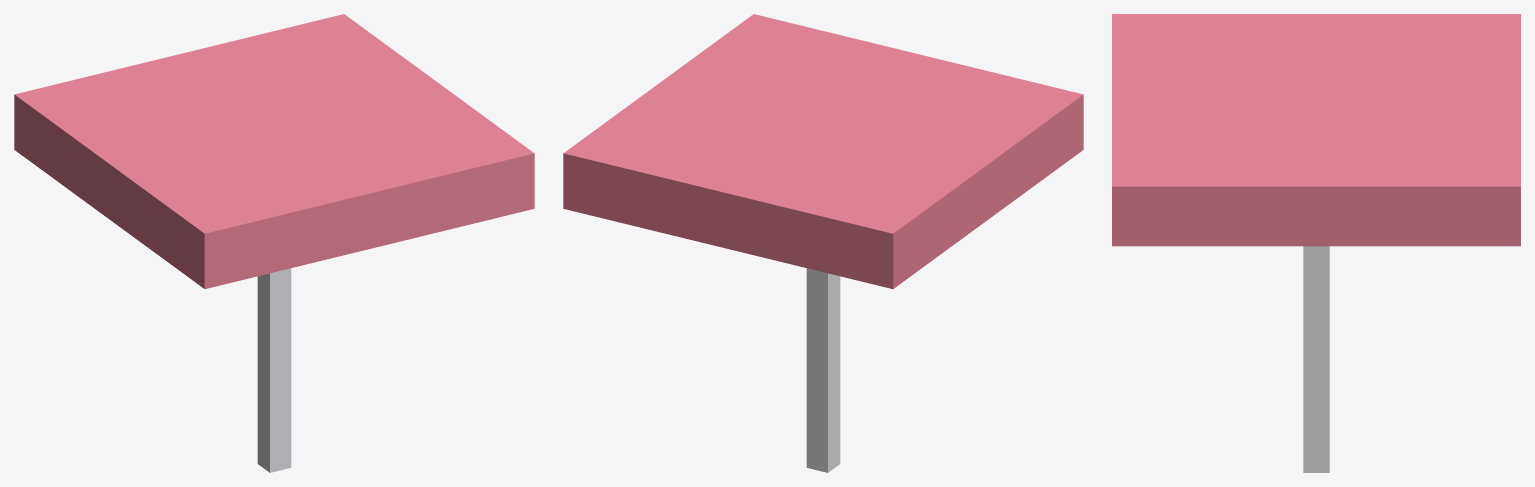
Rendered from beach_umbrella.glb.
3 renders of one model, left to right at view 1: azimuth 30°, elevation 25°; view 2: azimuth 150°, elevation 25°; view 3: azimuth 270°, elevation 25°, orthographic. The views are drawn at different scales.
Parts seen in each view (by area): view 1: umbrella_top, umbrella_pole; view 2: umbrella_top, umbrella_pole; view 3: umbrella_top, umbrella_pole.
Boxes of the visible parts, x1=… form: umbrella_top: x1=14, y1=14, x2=534, y2=288; umbrella_pole: x1=257, y1=268, x2=291, y2=472; umbrella_top: x1=563, y1=14, x2=1083, y2=288; umbrella_pole: x1=806, y1=268, x2=840, y2=472; umbrella_top: x1=1112, y1=14, x2=1520, y2=246; umbrella_pole: x1=1303, y1=246, x2=1329, y2=472.
Size of the model in its own units: 2.8 by 2.77 by 2.8.
